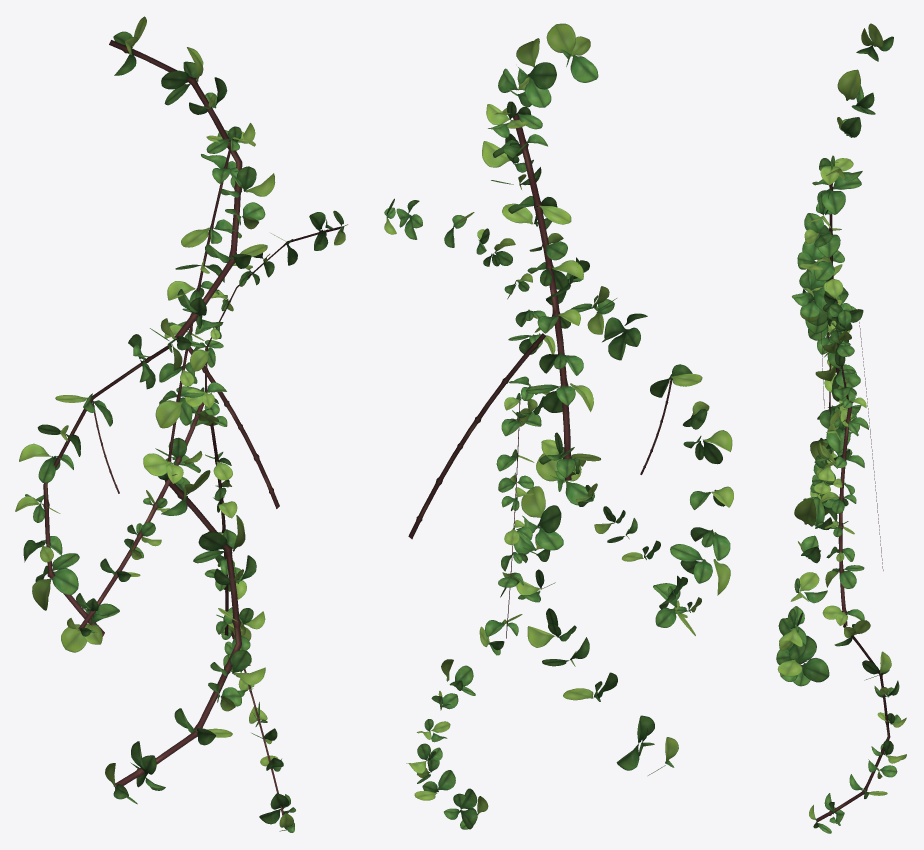
Rendered from trailing-leaves.glb.
3 renders of one model, left to right at view 1: azimuth 30°, elevation 25°; view 2: azimuth 150°, elevation 25°; view 3: azimuth 270°, elevation 25°, orthographic. The views are drawn at different scales.
Visible parts, largest first — view 1: trailing-leaves; view 2: trailing-leaves; view 3: trailing-leaves.
Part boxes in pixels (bbox=[...]): trailing-leaves: bbox=[15, 16, 347, 832]; trailing-leaves: bbox=[384, 23, 733, 829]; trailing-leaves: bbox=[776, 23, 906, 833].
Size of the model in its own units: 0.4273 by 1 by 0.1658.
1 material, 1 textured.
